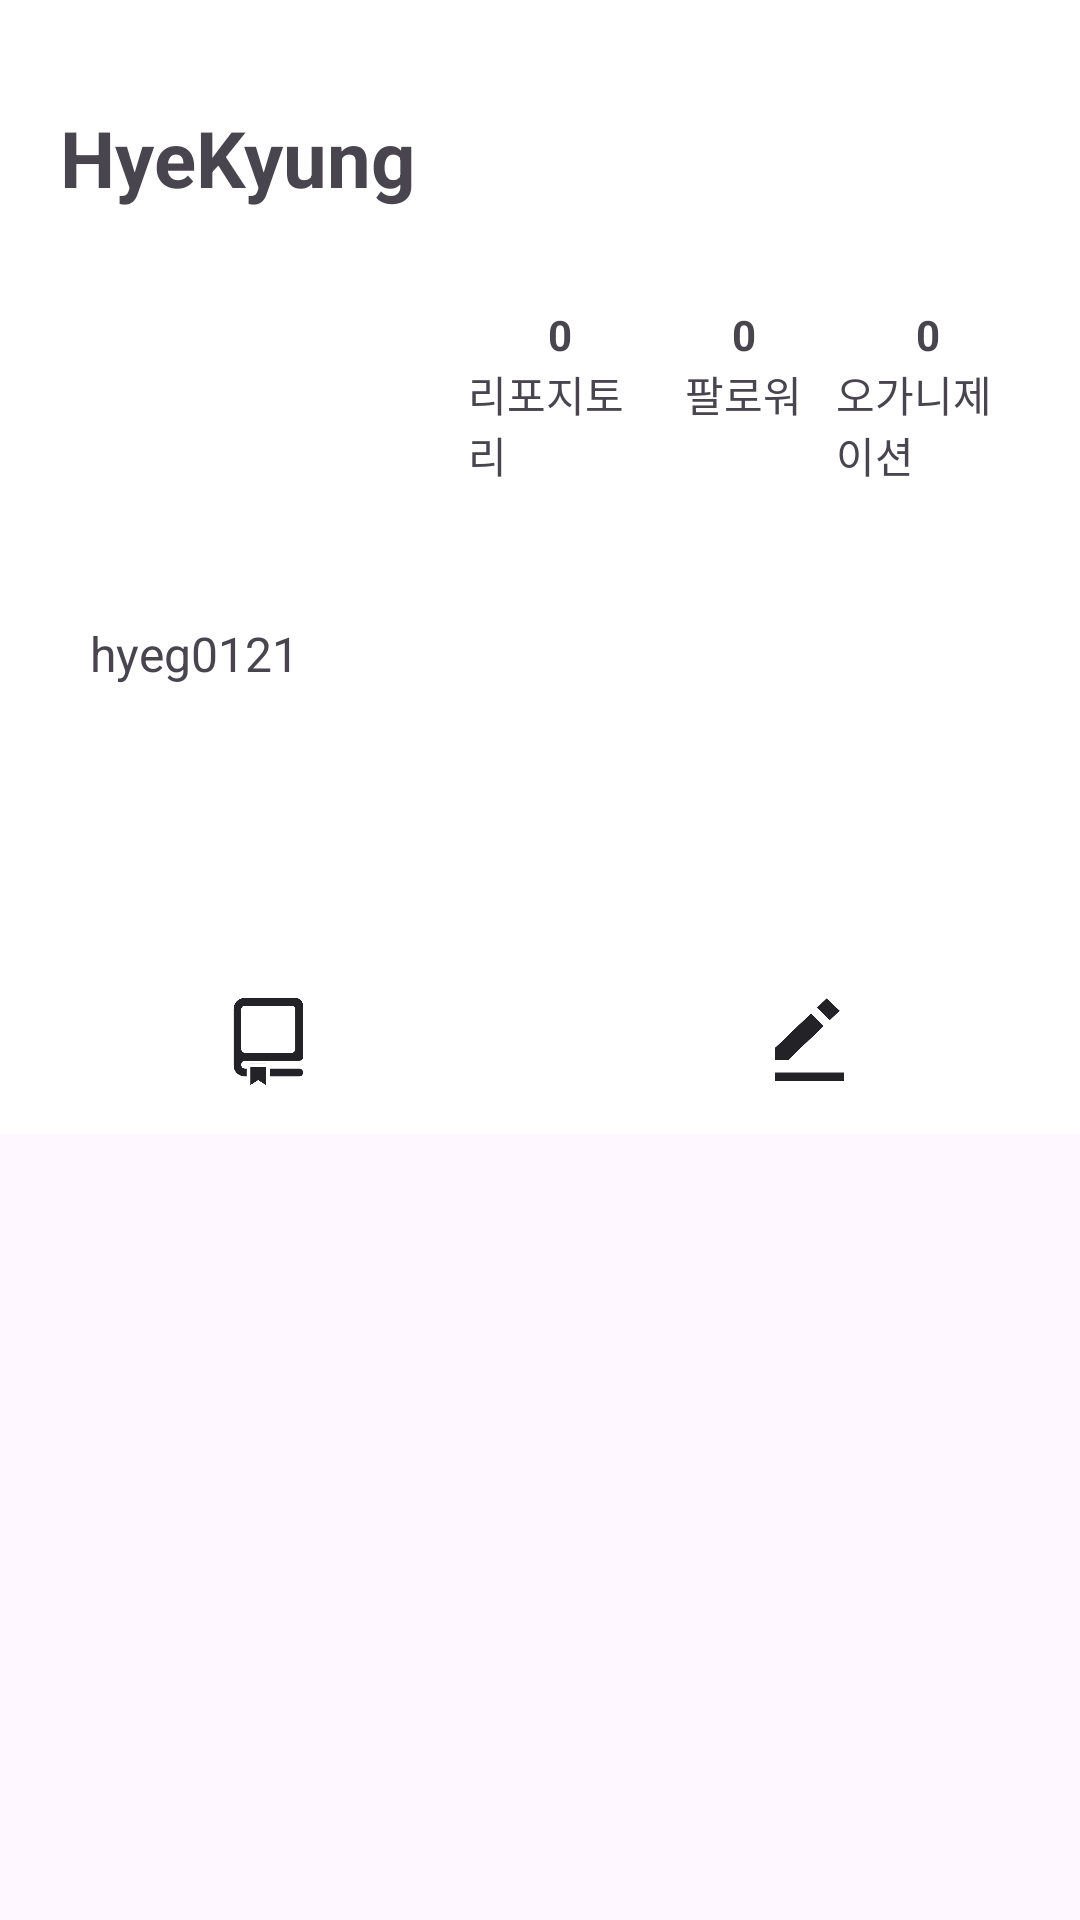

Locate icon controls on the screen. Image size 1080px x 1920px, boxes as (x1, y1, x2, y2).
post: (775, 998, 844, 1081)
repository: (233, 998, 303, 1085)
